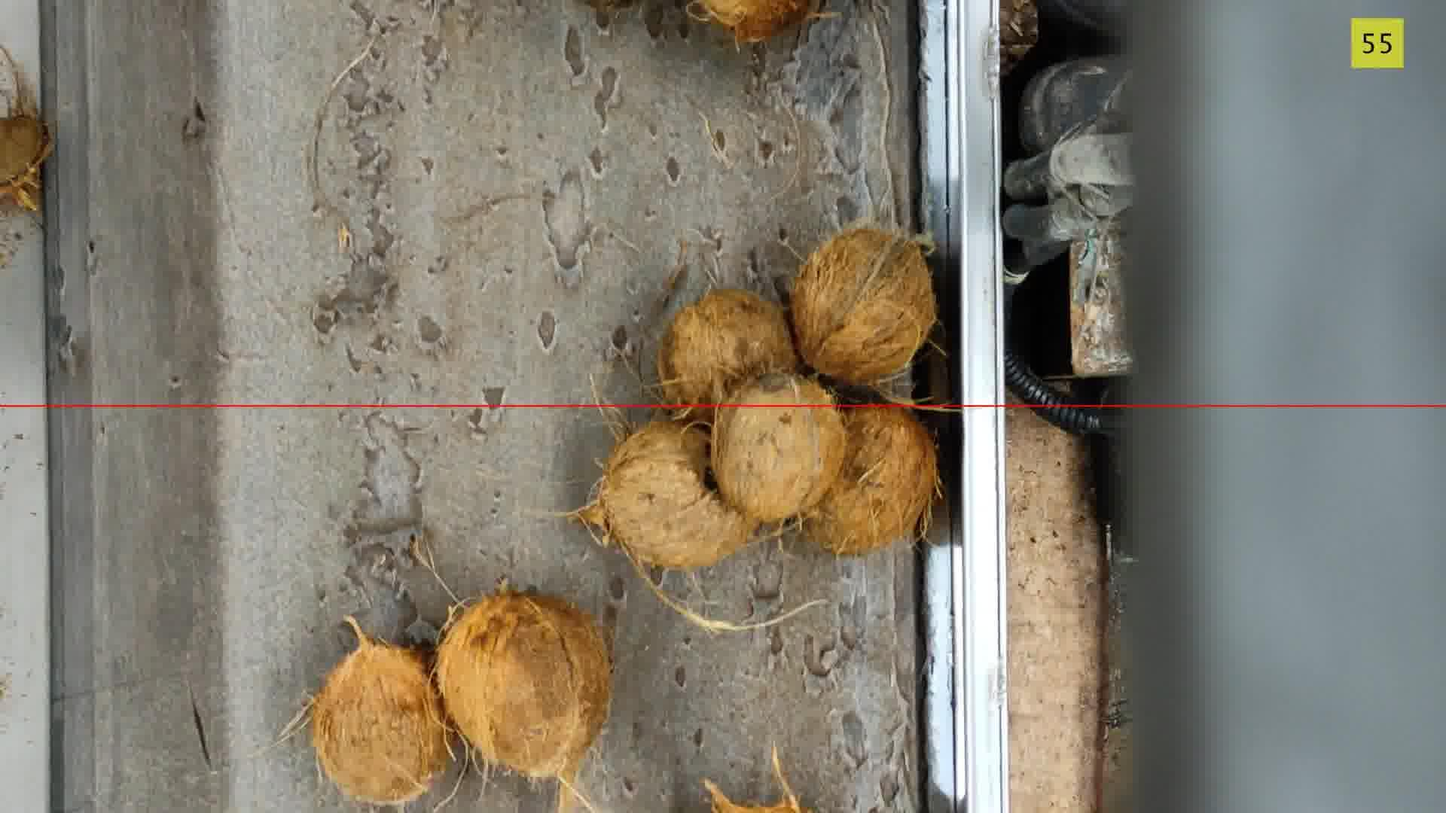Coconut: (435, 590, 610, 778), (578, 420, 756, 568), (311, 617, 449, 803), (790, 227, 937, 385), (803, 407, 938, 555), (711, 375, 846, 522), (657, 289, 799, 419), (0, 46, 53, 209), (705, 750, 807, 812), (700, 0, 812, 42), (583, 0, 636, 12)
